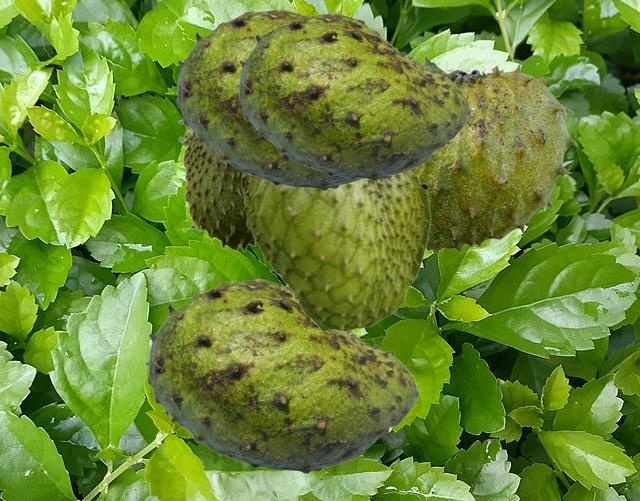guyabano: (145, 278, 418, 473), (236, 12, 470, 180), (174, 8, 363, 190), (412, 54, 577, 252), (241, 170, 430, 331), (178, 118, 256, 251)
